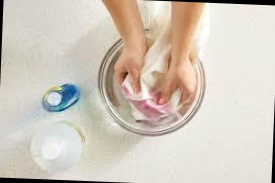wine: (126, 79, 173, 122)
